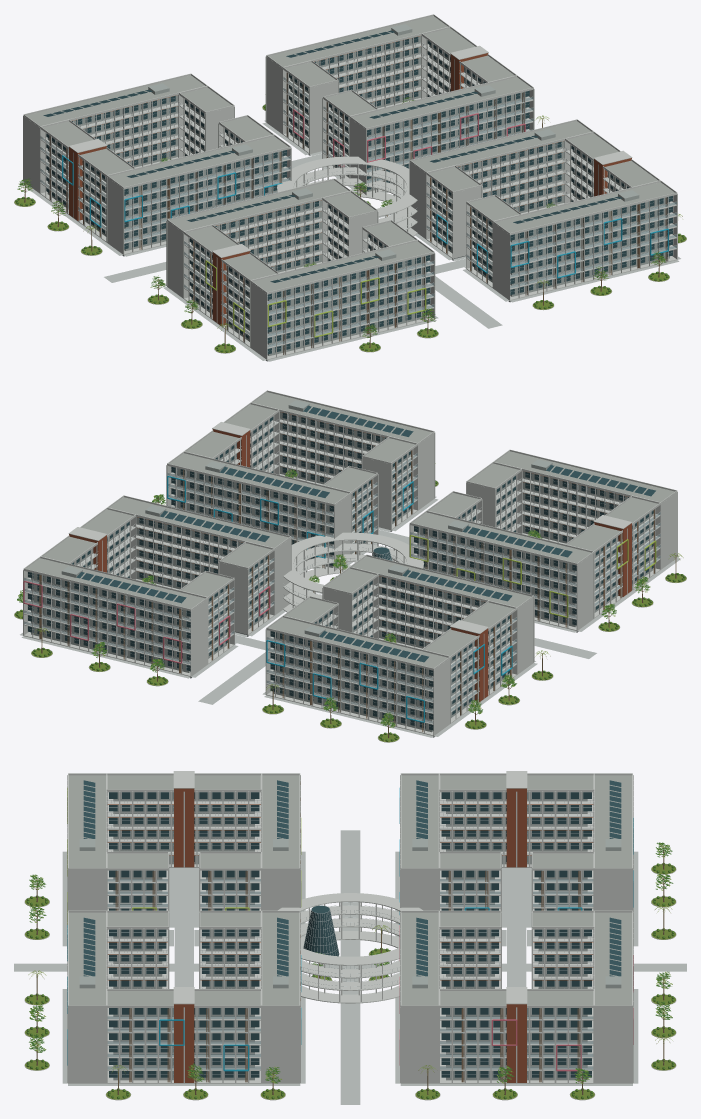
File: dorm52-lod1.glb
3 views of the same model, one above another, from view 1: azimuth 30°, elevation 25°; view 2: azimuth 150°, elevation 25°; view 3: azimuth 270°, elevation 25° (orthographic). The views are drawn at different scales.
Parts seen in each view (by area): view 1: white balcony slabs and piers | ivory metal.001, recessed dormitory rooms | room plaster.001, flat roofs and parapets | roof.001, recessed windows | window.001, open gallery metal balustrades | gallery rail.001, private balcony glass panels | glass rail.001, brown balcony privacy louvers | bronze louver.001, continuous courtyard paving | pale paving.001, three level open shared ring slabs | ivory metal.001, red brick stair cores | brick.001, roof collector arrays | window.001, two storey coloured balcony frames | cyan.001 (+8 smaller); view 2: white balcony slabs and piers | ivory metal.001, recessed dormitory rooms | room plaster.001, flat roofs and parapets | roof.001, recessed windows | window.001, open gallery metal balustrades | gallery rail.001, private balcony glass panels | glass rail.001, roof collector arrays | window.001, brown balcony privacy louvers | bronze louver.001, continuous courtyard paving | pale paving.001, three level open shared ring slabs | ivory metal.001, red brick stair cores | brick.001, layered leaf canopy | leaf shadow.001 (+8 smaller); view 3: white balcony slabs and piers | ivory metal.001, flat roofs and parapets | roof.001, recessed windows | window.001, recessed dormitory rooms | room plaster.001, continuous courtyard paving | pale paving.001, open gallery metal balustrades | gallery rail.001, three level open shared ring slabs | ivory metal.001, private balcony glass panels | glass rail.001, red brick stair cores | brick.001, roof collector arrays | window.001, brown balcony privacy louvers | bronze louver.001, courtyard and perimeter planted lawns | lawn.001 (+10 smaller).
Part boxes in pixels (x1,y1,x2,y2): white balcony slabs and piers | ivory metal.001: (23,14,677,359); recessed dormitory rooms | room plaster.001: (47,24,669,355); flat roofs and parapets | roof.001: (26,16,674,292); recessed windows | window.001: (46,36,672,354); open gallery metal balustrades | gallery rail.001: (40,38,676,352); private balcony glass panels | glass rail.001: (40,77,676,347); brown balcony privacy louvers | bronze louver.001: (49,73,667,354); continuous courtyard paving | pale paving.001: (20,120,680,361); three level open shared ring slabs | ivory metal.001: (277,156,417,236); red brick stair cores | brick.001: (69,53,631,325); roof collector arrays | window.001: (43,30,622,282); two storey coloured balcony frames | cyan.001: (62,155,668,278); white balcony slabs and piers | ivory metal.001: (23,390,677,735); recessed dormitory rooms | room plaster.001: (31,400,653,732); flat roofs and parapets | roof.001: (26,392,674,668); recessed windows | window.001: (28,413,654,730); open gallery metal balustrades | gallery rail.001: (24,414,660,728); private balcony glass panels | glass rail.001: (24,453,660,723); roof collector arrays | window.001: (76,405,655,662); brown balcony privacy louvers | bronze louver.001: (39,450,654,731); continuous courtyard paving | pale paving.001: (20,496,680,737); three level open shared ring slabs | ivory metal.001: (283,532,423,612); red brick stair cores | brick.001: (69,429,631,701); layered leaf canopy | leaf shadow.001: (17,469,649,727); white balcony slabs and piers | ivory metal.001: (67,771,633,1083); flat roofs and parapets | roof.001: (69,775,631,1005); recessed windows | window.001: (109,792,591,1077); recessed dormitory rooms | room plaster.001: (79,792,621,1080); continuous courtyard paving | pale paving.001: (14,830,686,1104); open gallery metal balustrades | gallery rail.001: (108,792,592,1077); three level open shared ring slabs | ivory metal.001: (278,893,422,1003); private balcony glass panels | glass rail.001: (107,879,593,1069); red brick stair cores | brick.001: (174,788,526,1082); roof collector arrays | window.001: (83,780,621,976); brown balcony privacy louvers | bronze louver.001: (115,782,580,1082); courtyard and perimeter planted lawns | lawn.001: (25,864,675,1099).
Size of the model in its own units: 168 by 23.41 by 174.
